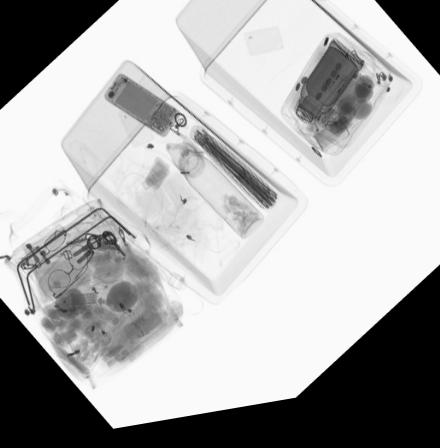Lighter: (331, 85, 349, 110), (326, 83, 342, 103)
